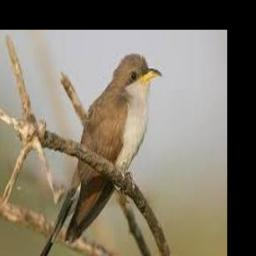Cuckoo: (21, 53, 162, 256)
